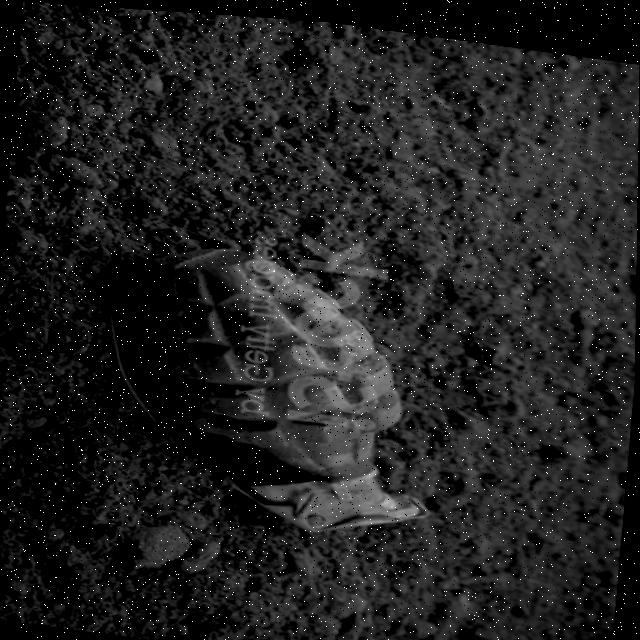grenade: (95, 231, 438, 537)
